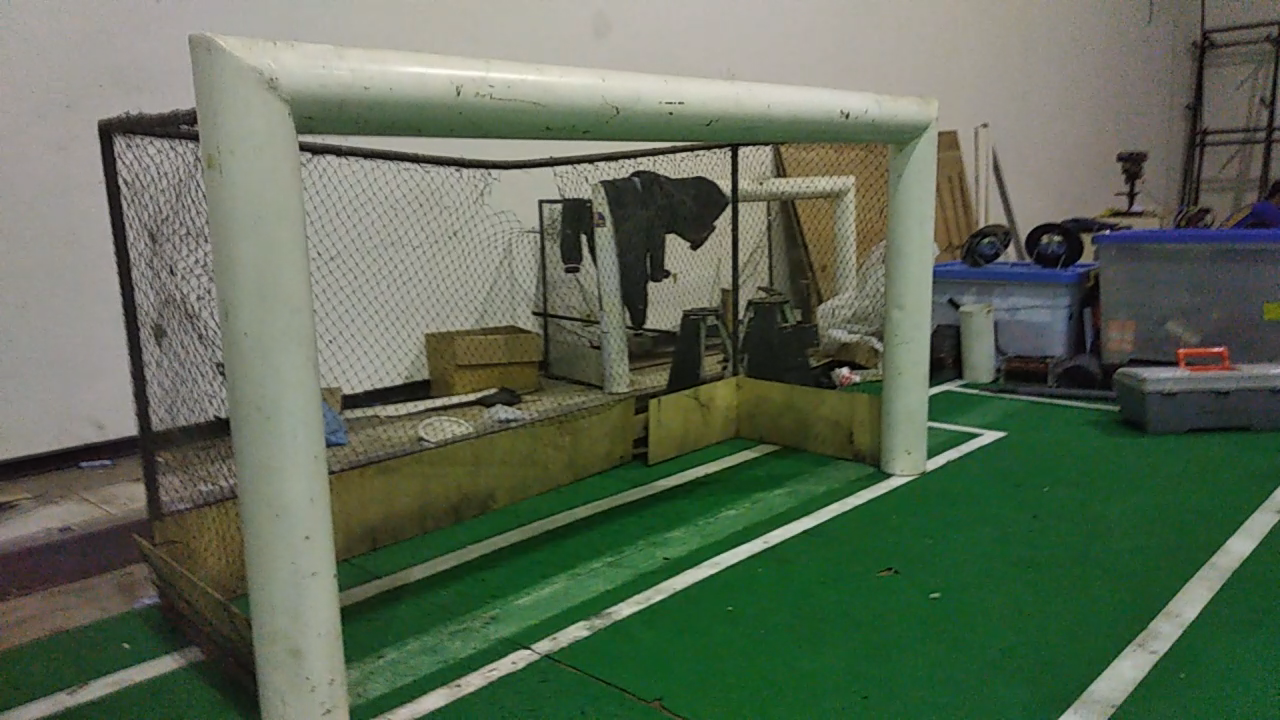gawang: (182, 25, 947, 712)
